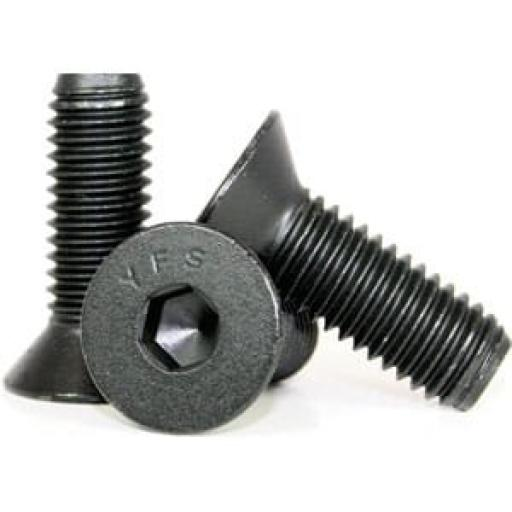Hex-Allen: (76, 218, 285, 434)
